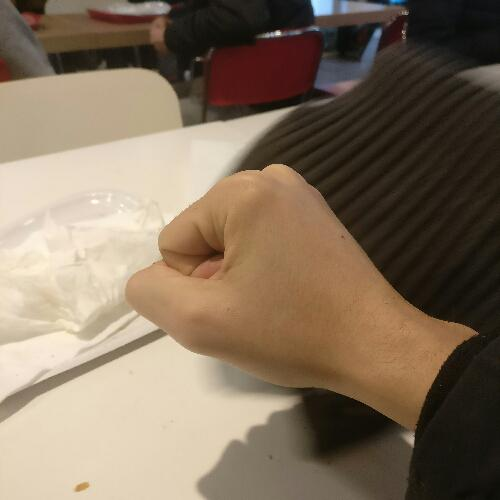rock: (120, 157, 403, 393)
